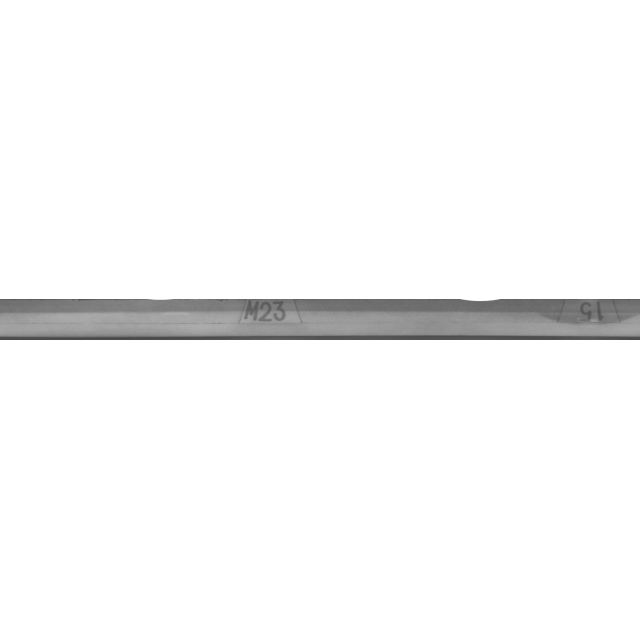mohao: (168, 270, 368, 370)
xuehao: (502, 270, 640, 370)
